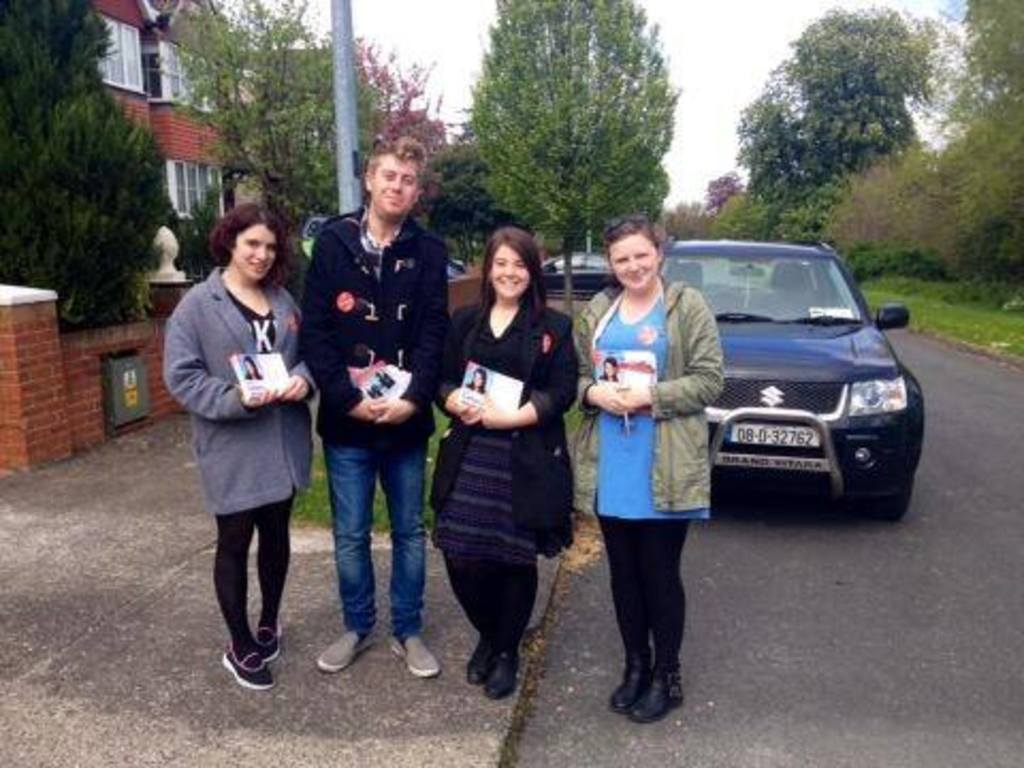cars: (654, 238, 927, 511), (537, 247, 622, 298)
